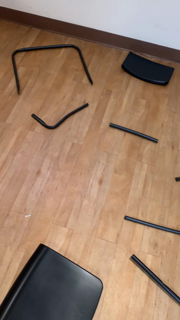Back: (118, 50, 177, 90)
C pipe: (11, 44, 96, 97)
L pipe: (29, 102, 91, 132)
i pipe: (106, 121, 162, 148)
